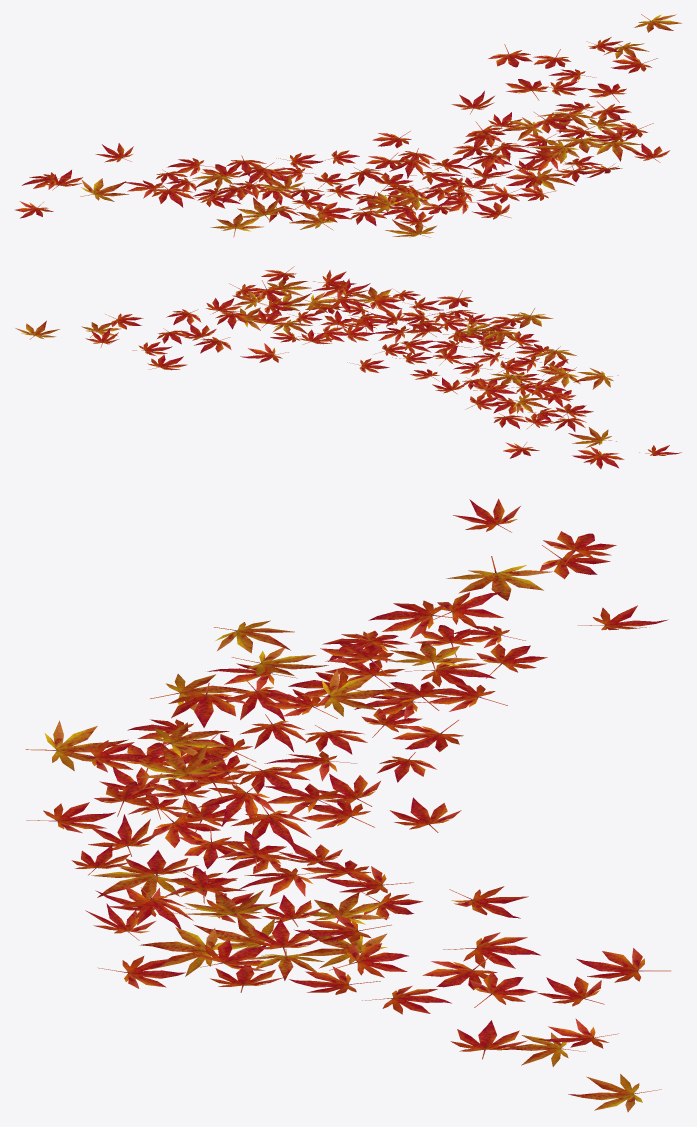
3 views of the same model, one above another, from view 1: azimuth 30°, elevation 25°; view 2: azimuth 150°, elevation 25°; view 3: azimuth 270°, elevation 25° (orthographic). The views are drawn at different scales.
Visible parts, largest first — view 1: ScatterMaple_High04.Shape; view 2: ScatterMaple_High04.Shape; view 3: ScatterMaple_High04.Shape.
Boxes of the visible parts, x1,y1,x2,y2 form: ScatterMaple_High04.Shape: (15, 14, 681, 237); ScatterMaple_High04.Shape: (15, 266, 681, 468); ScatterMaple_High04.Shape: (25, 498, 670, 1112).
Bounding box in the file's own units: 303 × 3.3 × 135.
Materials: 2 (2 with a texture image).
